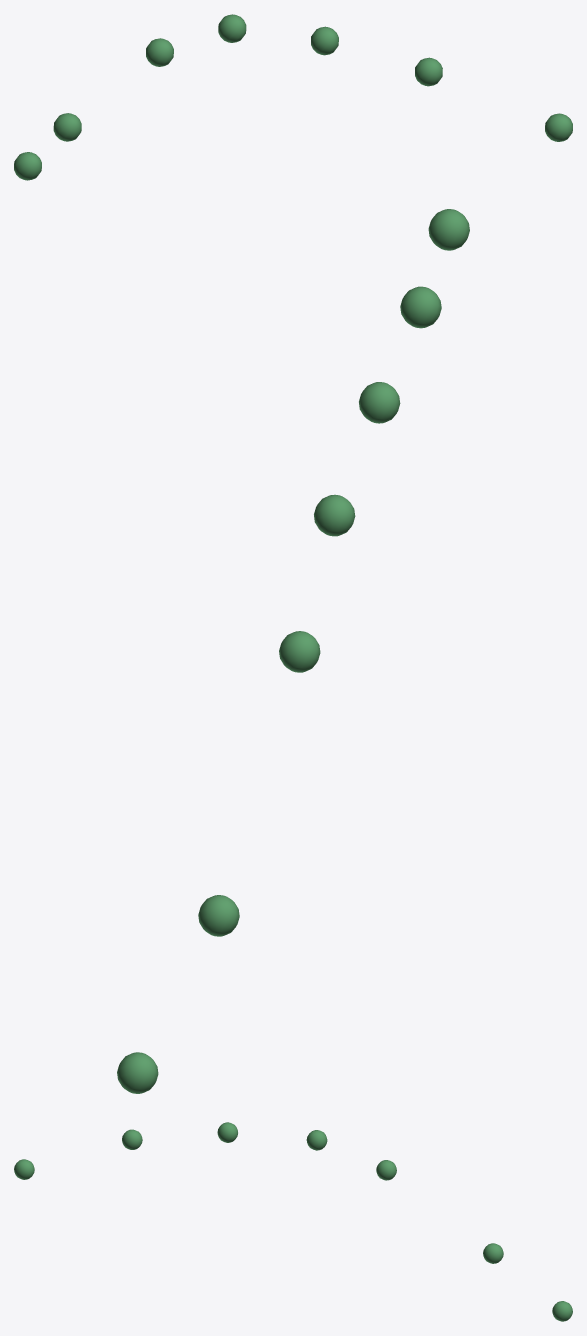
3 renders of one model, top to bottom at view 1: azimuth 30°, elevation 25°; view 2: azimuth 150°, elevation 25°; view 3: azimuth 270°, elevation 25°, orthographic. The views are drawn at different scales.
Visible parts, largest first — view 1: 右侧髂外中间淋巴结; view 2: 右侧髂外中间淋巴结; view 3: 右侧髂外中间淋巴结.
Part boxes in pixels (<box>): 右侧髂外中间淋巴结: <box>14,14,572,180</box>; 右侧髂外中间淋巴结: <box>117,209,469,1093</box>; 右侧髂外中间淋巴结: <box>14,1122,572,1321</box>.
Size of the model in its own units: 0.029 by 0.0459 by 0.1027.
